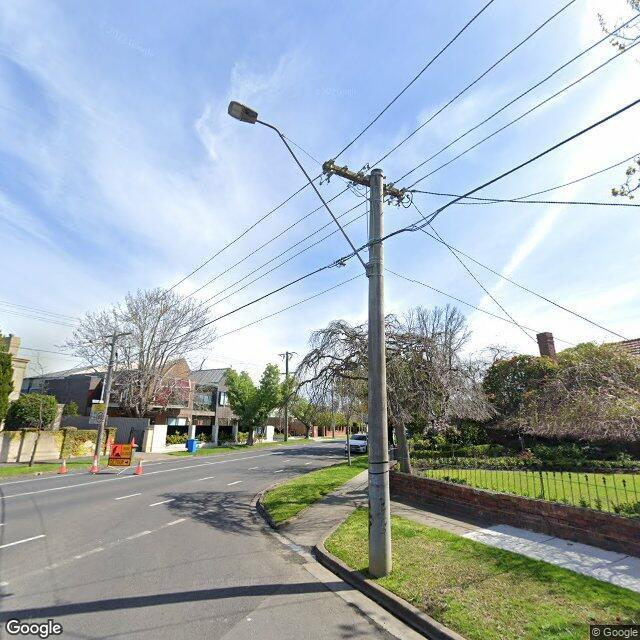concrete-pole: (368, 169, 393, 579), (94, 330, 118, 454), (284, 351, 288, 442)
crossarm: (320, 158, 415, 208), (104, 331, 132, 338), (278, 352, 297, 356), (280, 371, 297, 375)
streetlight: (228, 101, 370, 277)
